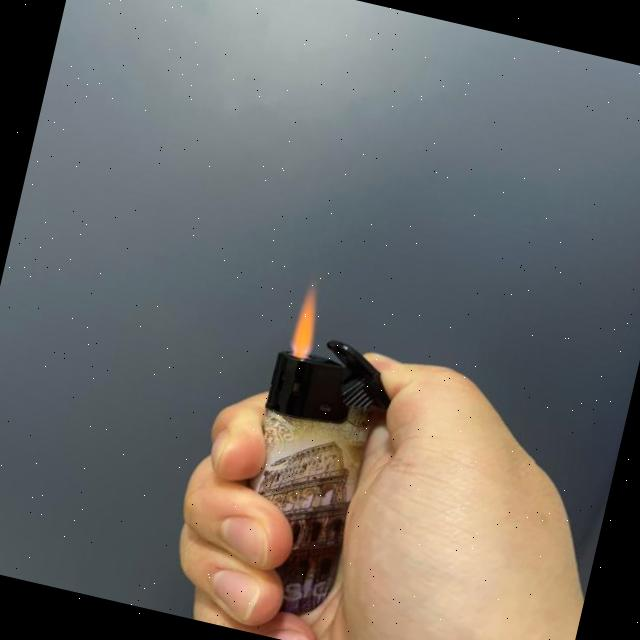fire: (283, 281, 327, 363)
